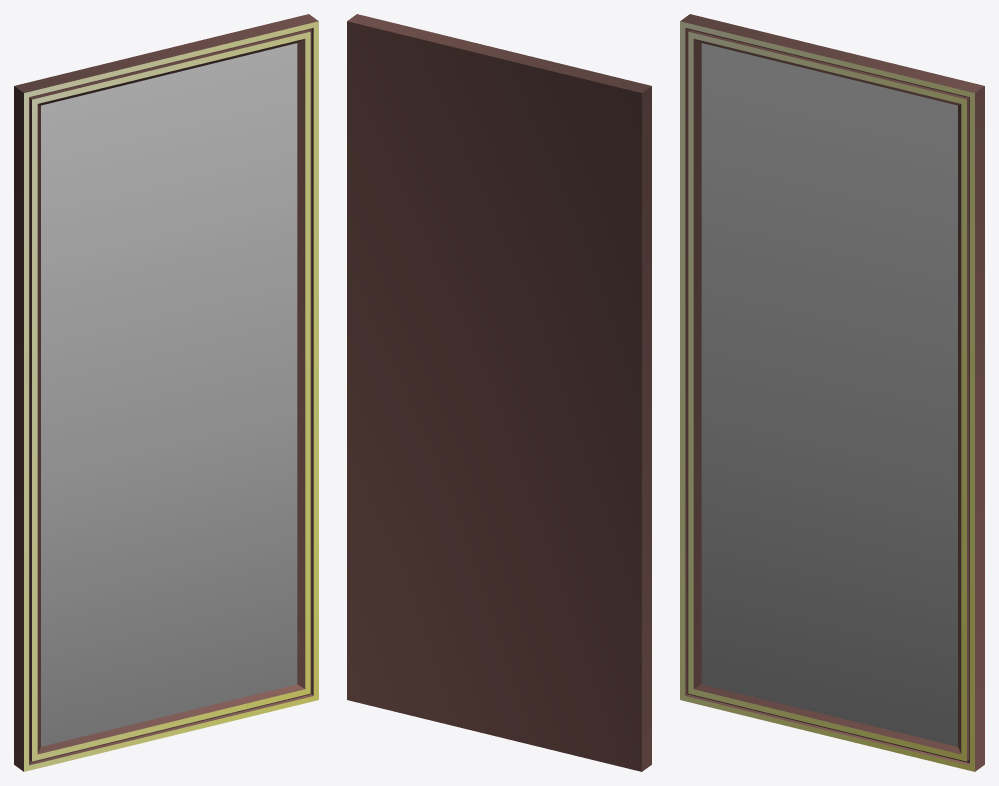
File: CR_Mirror_001.FBX
The picture shows the model from 3 angles, left to right: view 1: azimuth 30°, elevation 25°; view 2: azimuth 150°, elevation 25°; view 3: azimuth 330°, elevation 25°; orthographic projection.
Visible parts, largest first — view 1: CR_Mirror_001; view 2: CR_Mirror_001; view 3: CR_Mirror_001.
Boxes of the visible parts, box(x1,y1,x2,y2) form: CR_Mirror_001: box(14, 14, 318, 771); CR_Mirror_001: box(347, 14, 651, 771); CR_Mirror_001: box(680, 14, 984, 771).
Bounding box in the file's own units: 22.4 × 49.29 × 1.3.
